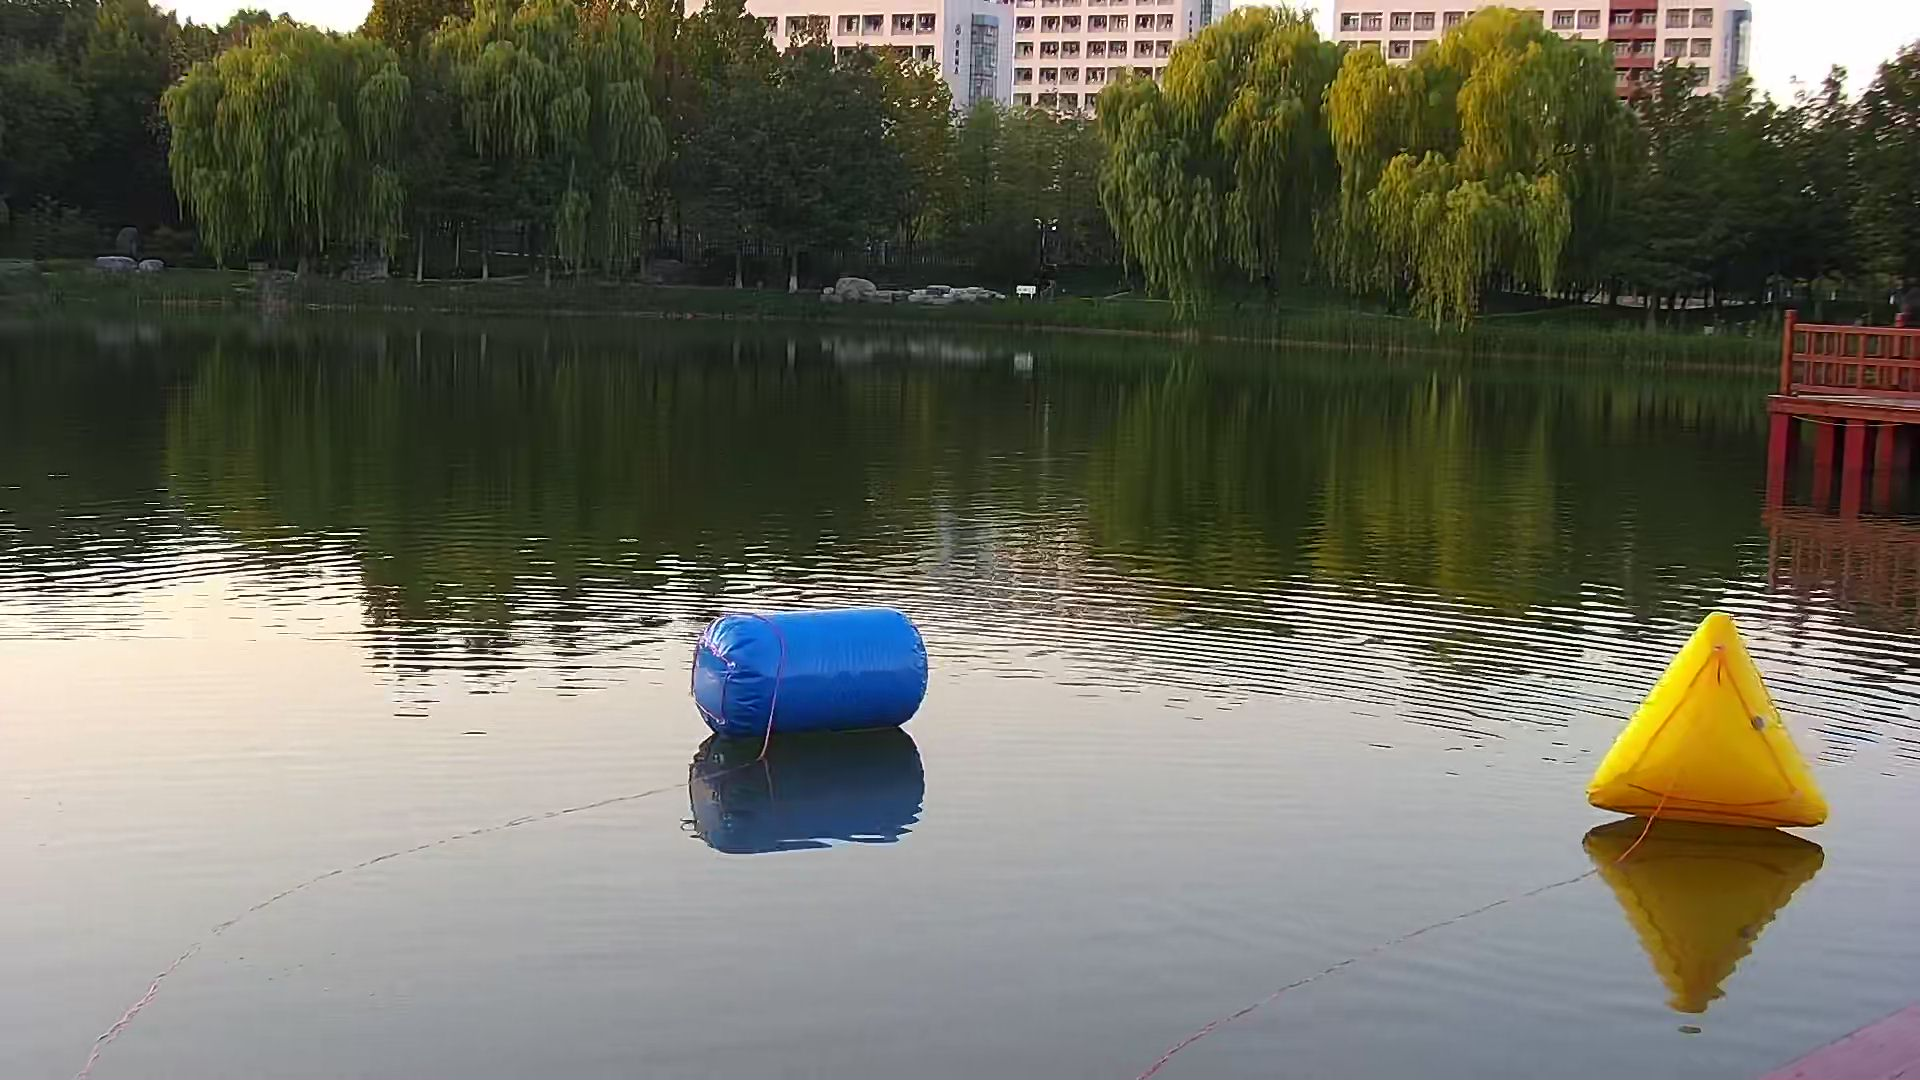rubbish: (1585, 607, 1837, 841), (691, 597, 943, 750)
